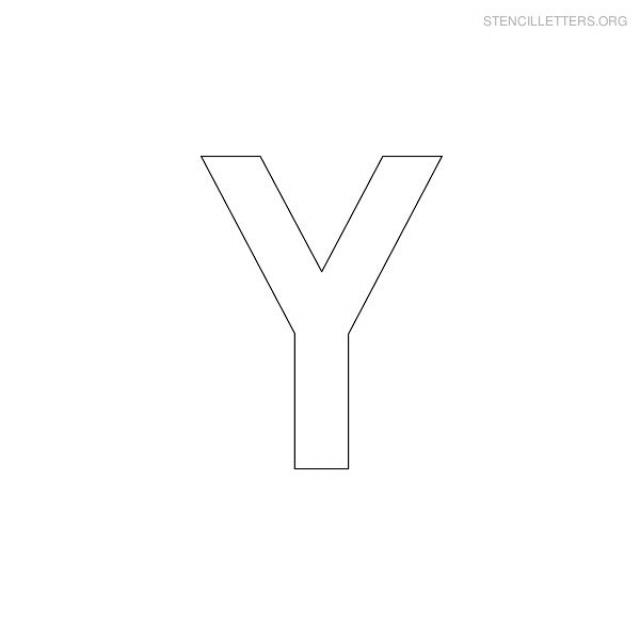Y: (162, 116, 462, 507)
